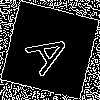A: (25, 25, 82, 78)
